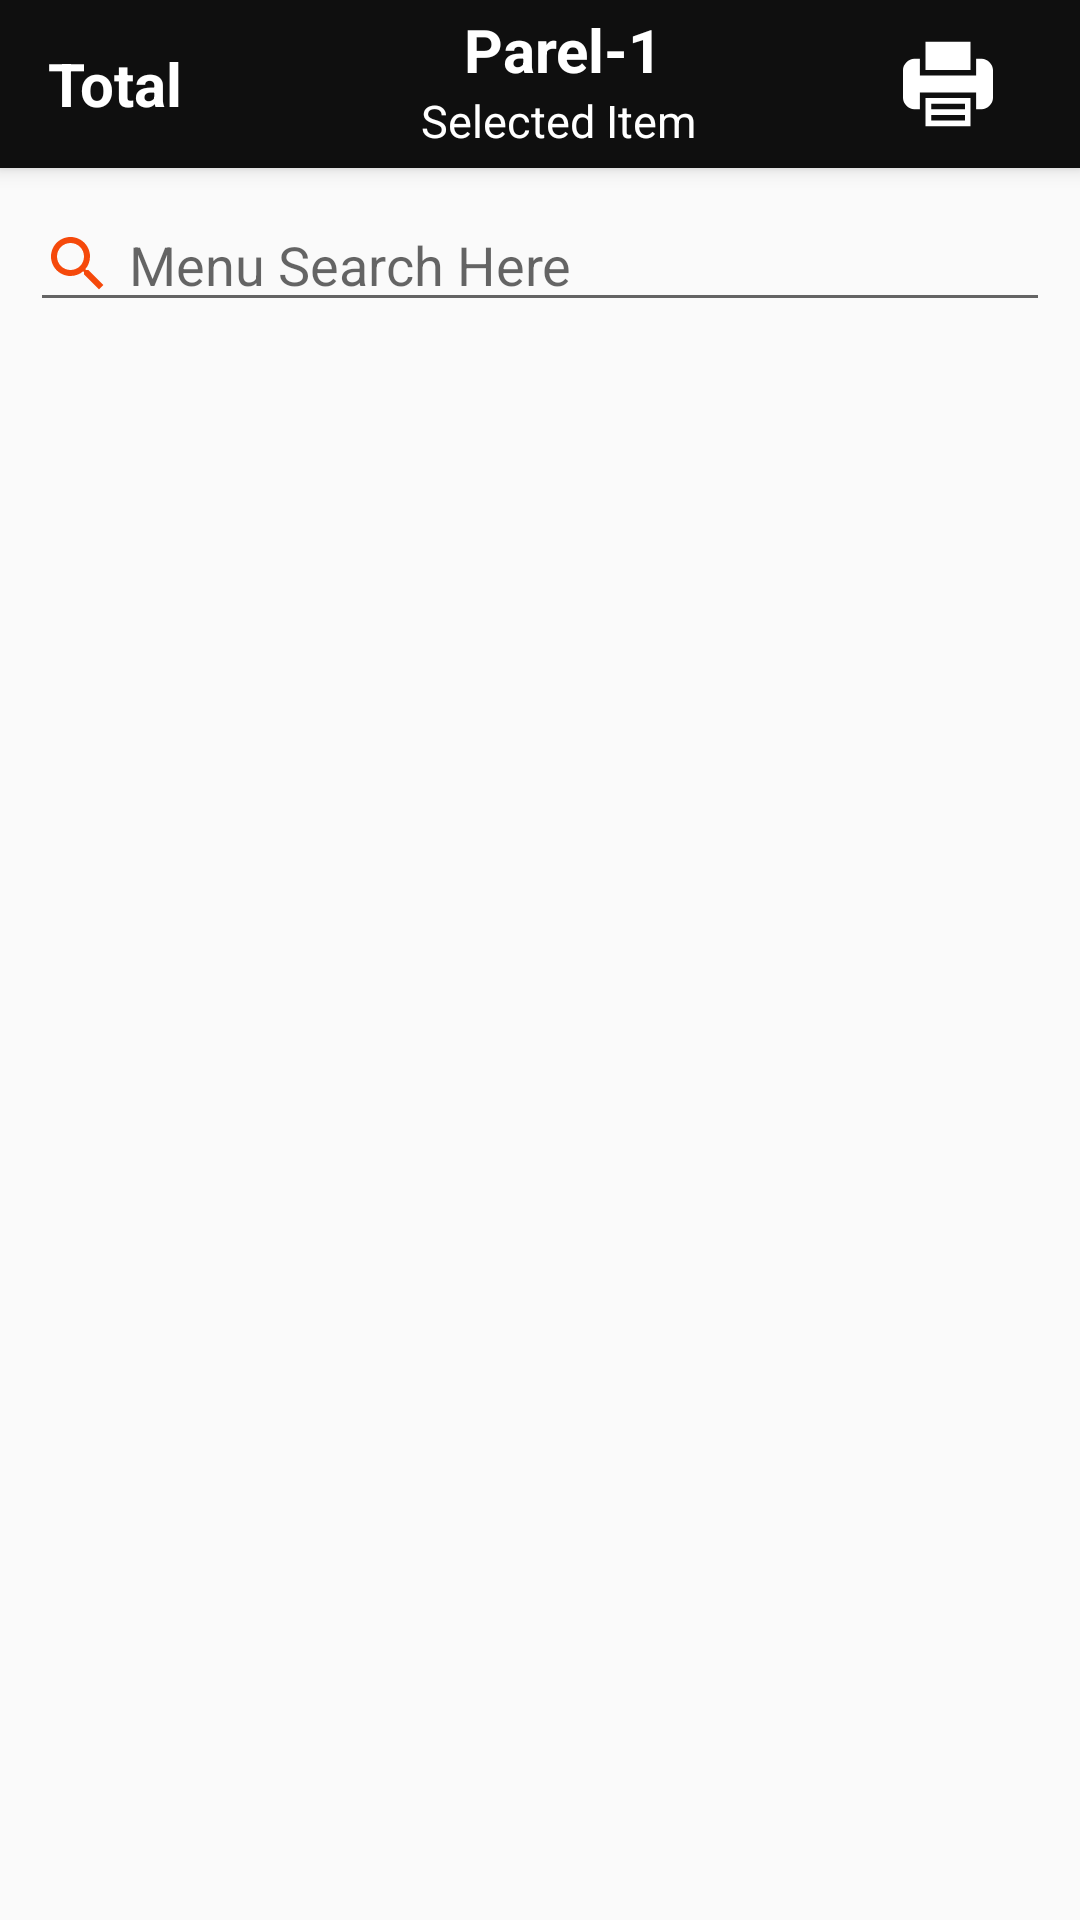

Where to tap for icons on this 1080*1920 app screen, as point (x, y):
printer: point (948, 84)
